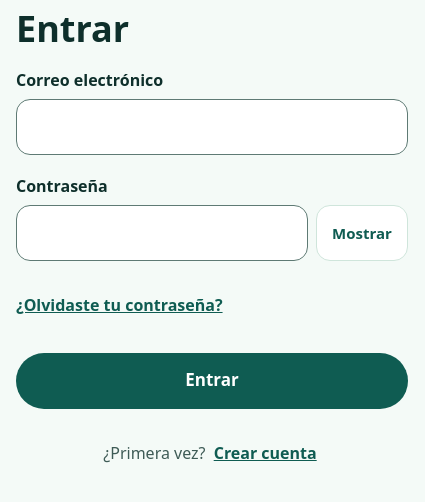
Scenario: login: forgot password sends the reset link
Type "ana@correo.com" into the field labelled "Correo electrónico" at [212, 127], box x1=16 y1=99 x2=408 y2=155
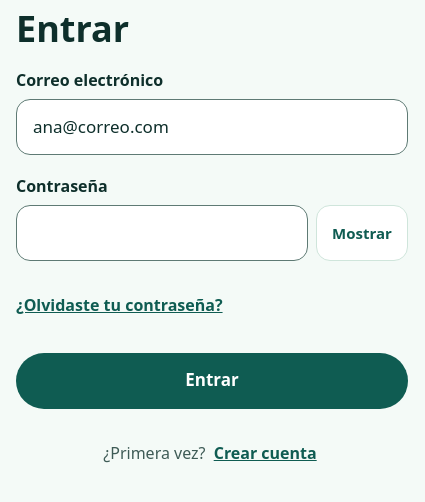
Click the button "¿Olvidaste tu contraseña?" at [119, 305], box x1=16 y1=281 x2=223 y2=329
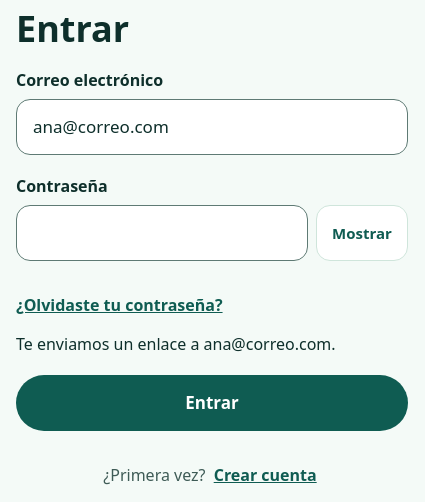
Check: the message reads "Te enviamos un enlace a ana@correo.com.", box x1=16 y1=333 x2=336 y2=355
